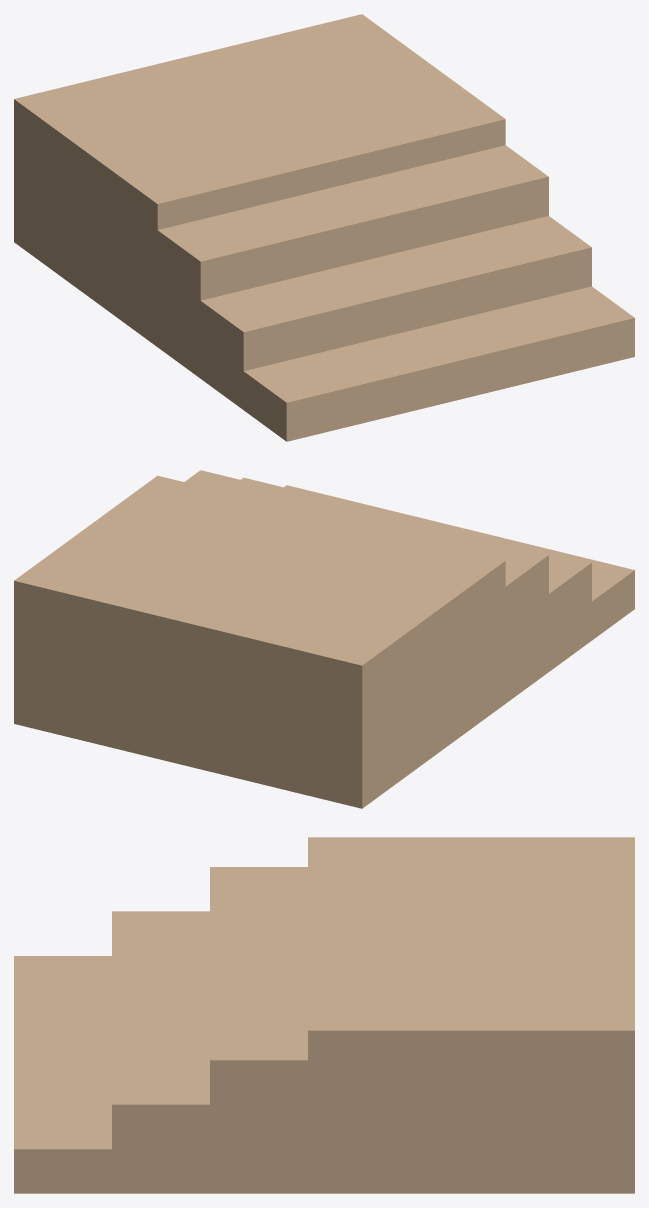
File: back_steps.glb
The picture shows the model from 3 angles, top to bottom: view 1: azimuth 30°, elevation 25°; view 2: azimuth 150°, elevation 25°; view 3: azimuth 270°, elevation 25°; orthographic projection. The views are drawn at different scales.
Parts seen in each view (by area): view 1: back_steps_wood; view 2: back_steps_wood; view 3: back_steps_wood.
Part boxes in pixels (left/top/right/bottom): back_steps_wood: left=14, top=14, right=634, bottom=441; back_steps_wood: left=14, top=470, right=634, bottom=808; back_steps_wood: left=14, top=837, right=634, bottom=1193.
Size of the model in its own units: 1.4 by 0.55 by 1.9.
